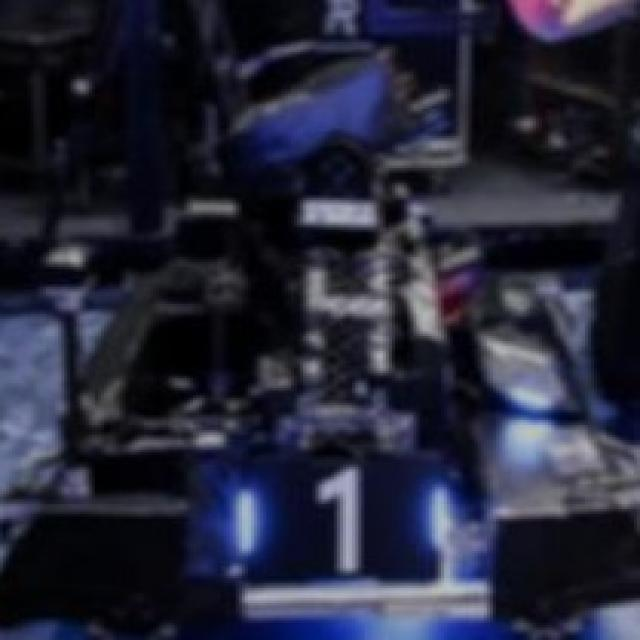B1: (236, 462, 444, 568)
